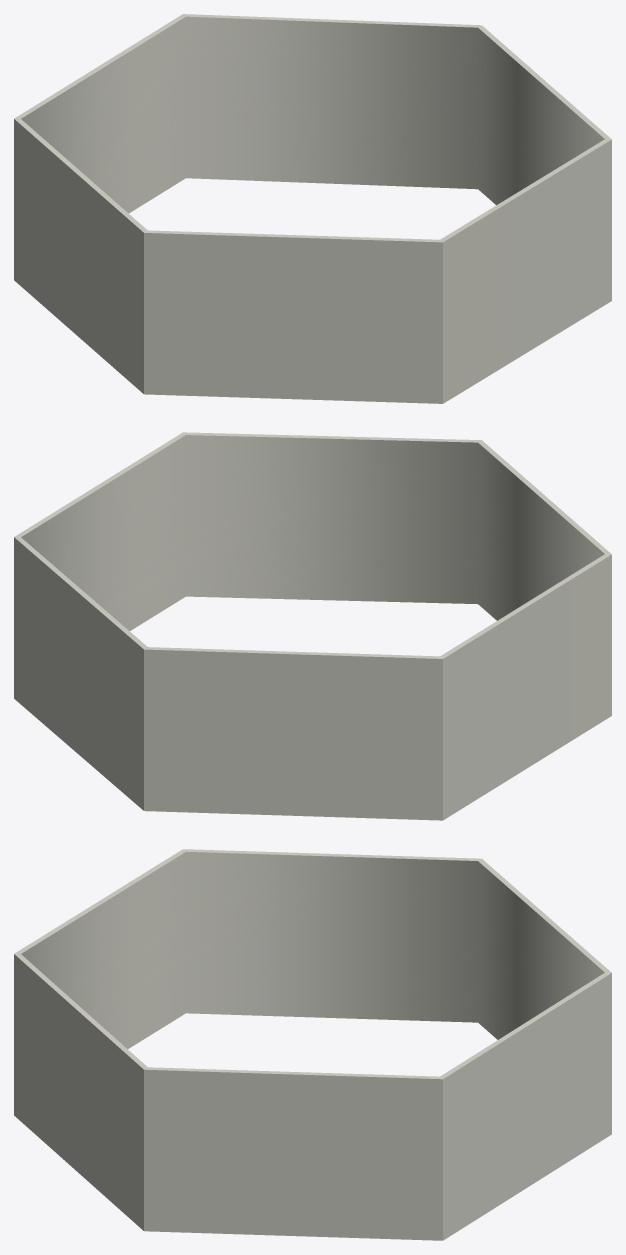
Rendered from SM_消化罐内壁.FBX.
3 renders of one model, top to bottom at view 1: azimuth 30°, elevation 25°; view 2: azimuth 150°, elevation 25°; view 3: azimuth 270°, elevation 25°, orthographic.
Visible parts, largest first — view 1: SM_消化罐内壁; view 2: SM_消化罐内壁; view 3: SM_消化罐内壁.
Part boxes in pixels (x1,y1,x2,y2): SM_消化罐内壁: (14, 14, 611, 403); SM_消化罐内壁: (14, 432, 611, 820); SM_消化罐内壁: (14, 849, 611, 1240).
Size of the model in its own units: 27.97 by 9.33 by 30.95.
